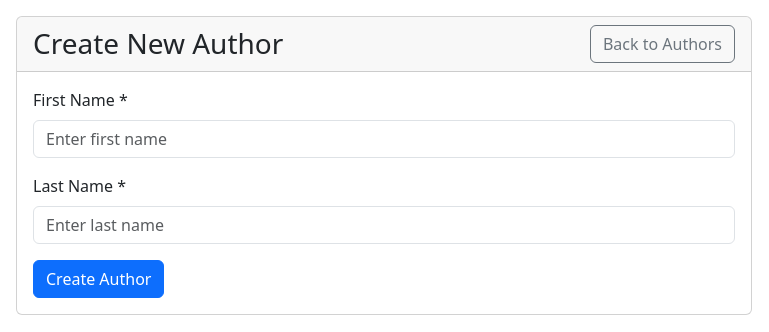
AuthorCreate › shows loading spinner while submitting
Type "Jane" into the field labelled "First Name *" at (384, 139), box [33, 120, 735, 158]
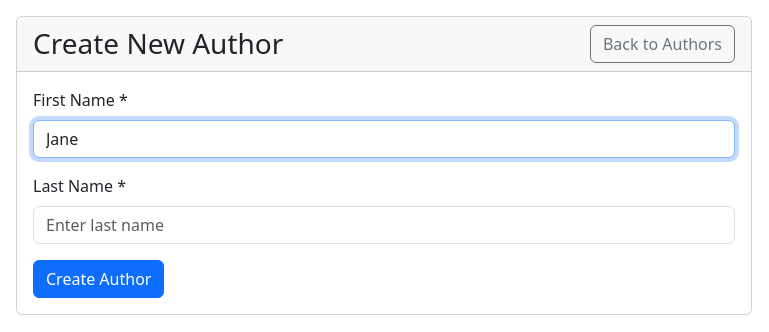
Type "Smith" into the field labelled "Last Name *" at (384, 225), box [33, 206, 735, 244]
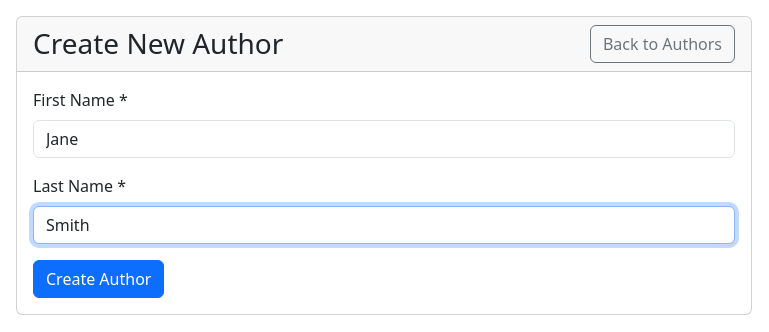
Click the button "Create Author" at (99, 279), box [33, 260, 164, 298]
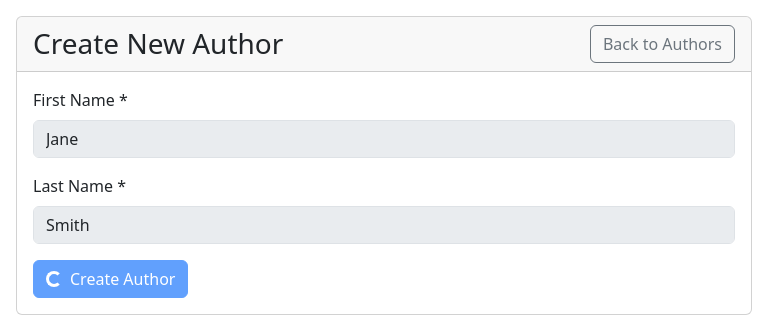
Expected: the message is shown, [46, 271, 62, 287]
Expected: the button "Create Author" is disabled, [33, 260, 188, 298]
